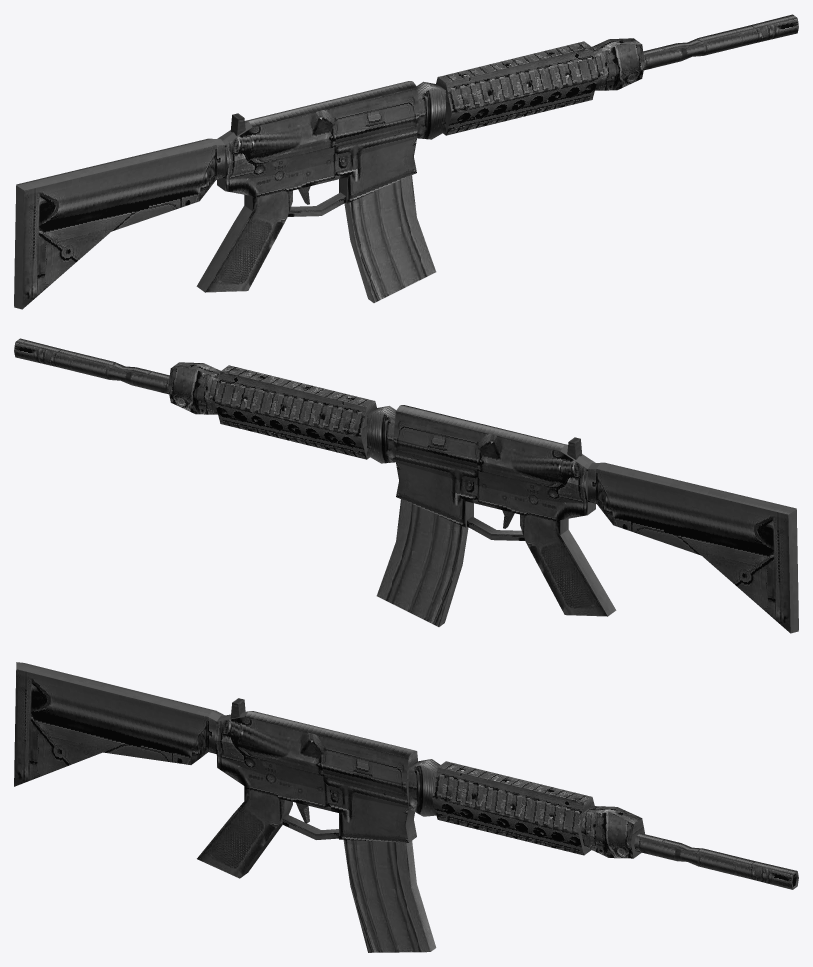
Rendered from Assault_Rifle_2.glb.
The picture shows the model from 3 angles, top to bottom: view 1: azimuth 30°, elevation 25°; view 2: azimuth 150°, elevation 25°; view 3: azimuth 330°, elevation 25°; orthographic projection.
Parts seen in each view (by area): view 1: Assault_Rifle_2, Magazine.001; view 2: Assault_Rifle_2, Magazine.001; view 3: Assault_Rifle_2, Magazine.001.
Part boxes in pixels (x1=…): Assault_Rifle_2: x1=14, y1=14, x2=798, y2=309; Magazine.001: x1=344, y1=175, x2=436, y2=302; Assault_Rifle_2: x1=14, y1=338, x2=798, y2=633; Magazine.001: x1=376, y1=499, x2=468, y2=626; Assault_Rifle_2: x1=14, y1=662, x2=798, y2=889; Magazine.001: x1=343, y1=840, x2=436, y2=952.
Size of the model in its own units: 0.8737 by 0.2322 by 0.0385.
1 material, 1 textured.
